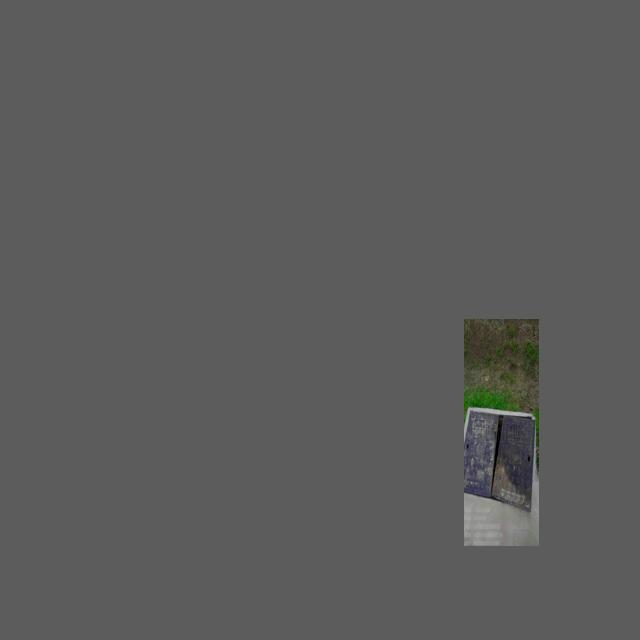uncovered: (464, 406, 538, 517)
